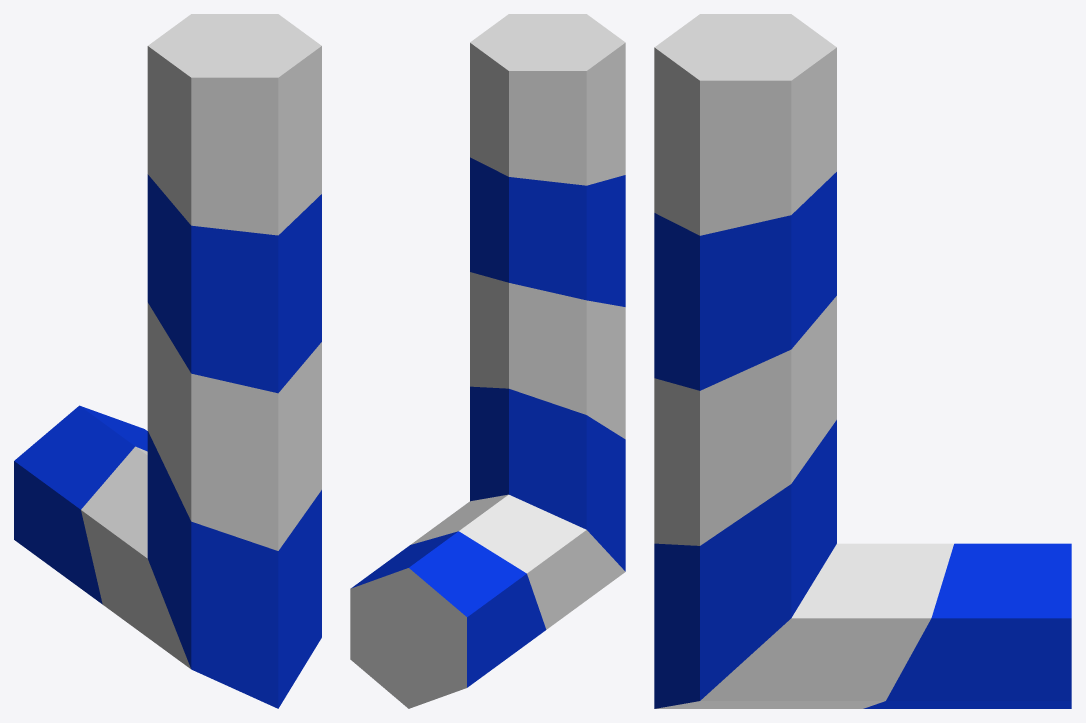
The model's file is ME_Maintien.fbx.
3 views of the same model, side by side, from view 1: azimuth 30°, elevation 25°; view 2: azimuth 150°, elevation 25°; view 3: azimuth 270°, elevation 25° (orthographic). The views are drawn at different scales.
Parts seen in each view (by area): view 1: Cylinder; view 2: Cylinder; view 3: Cylinder.
Part boxes in pixels (bbox=[...]): Cylinder: bbox=[14, 14, 321, 708]; Cylinder: bbox=[350, 14, 625, 708]; Cylinder: bbox=[654, 14, 1071, 708].
Size of the model in its own units: 173 by 800 by 457.
